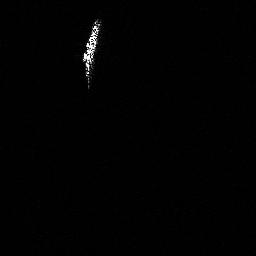ship: (77, 16, 106, 90)
